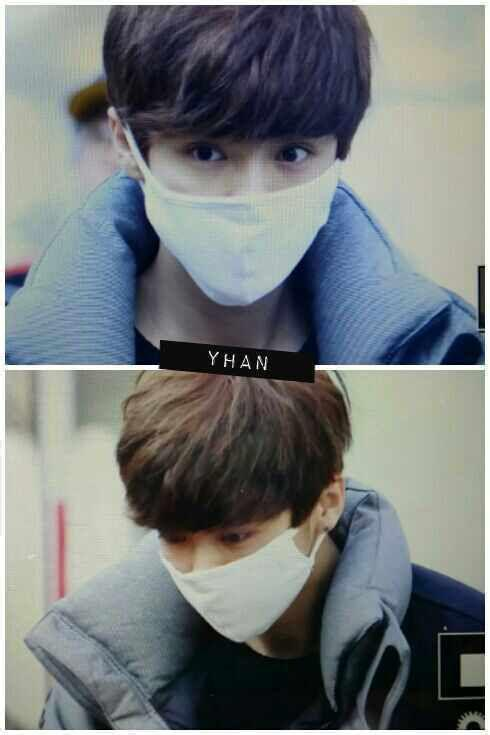WRONG: (143, 98, 352, 307), (153, 488, 306, 641)
